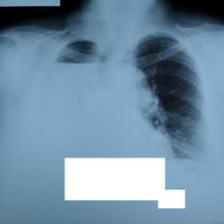tuberculosis: (24, 31, 211, 198)
